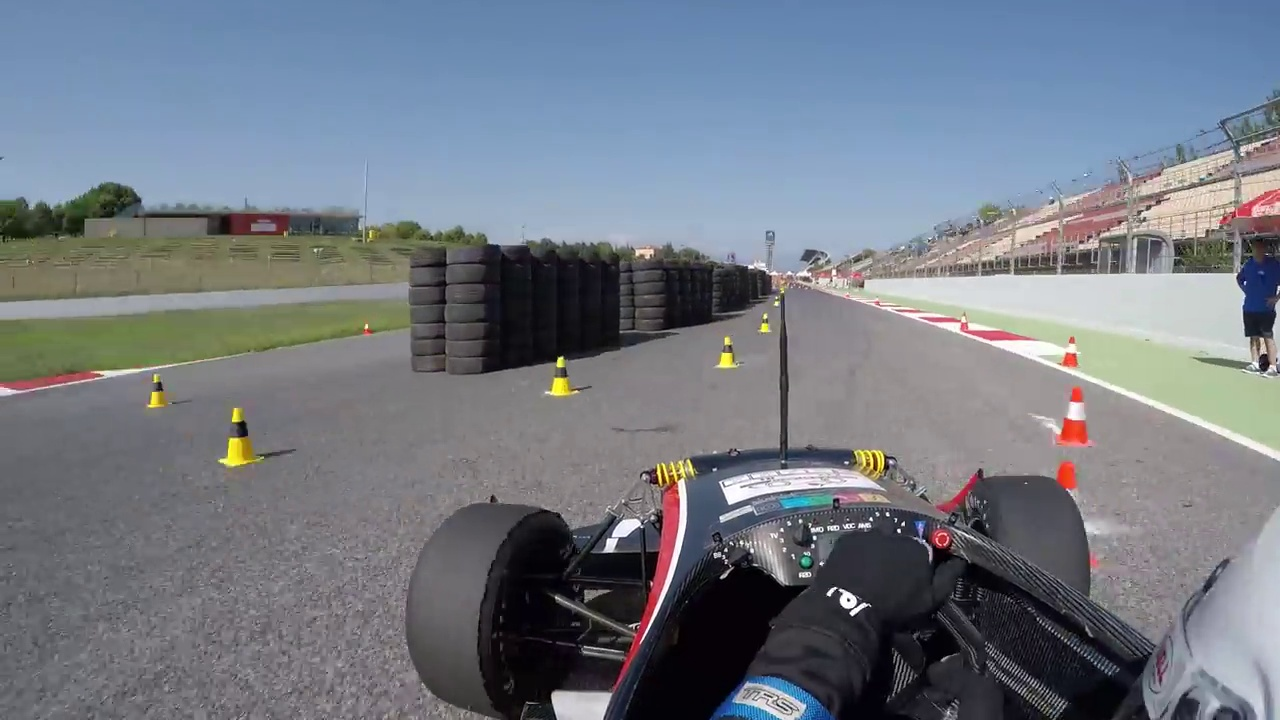Cone: (221, 404, 261, 468), (1059, 384, 1093, 445), (547, 354, 577, 397), (148, 368, 171, 409), (717, 336, 740, 367), (1062, 335, 1080, 370)
